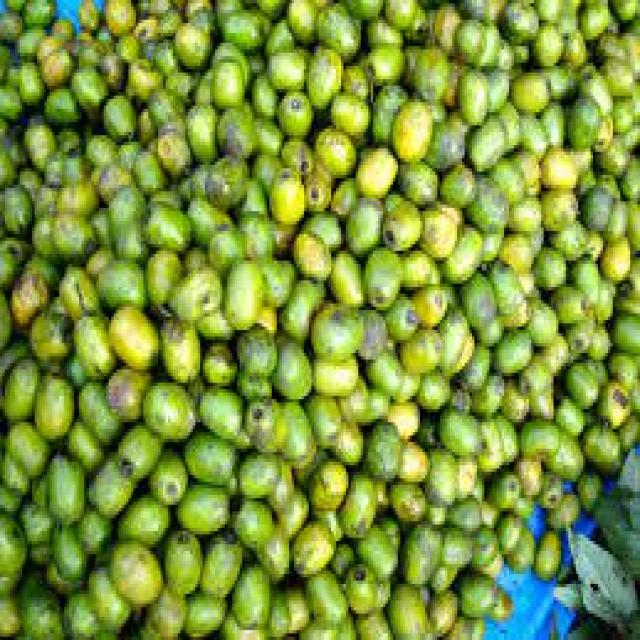Hog Plum: (82, 100, 598, 514), (212, 212, 388, 382), (420, 202, 506, 332)
